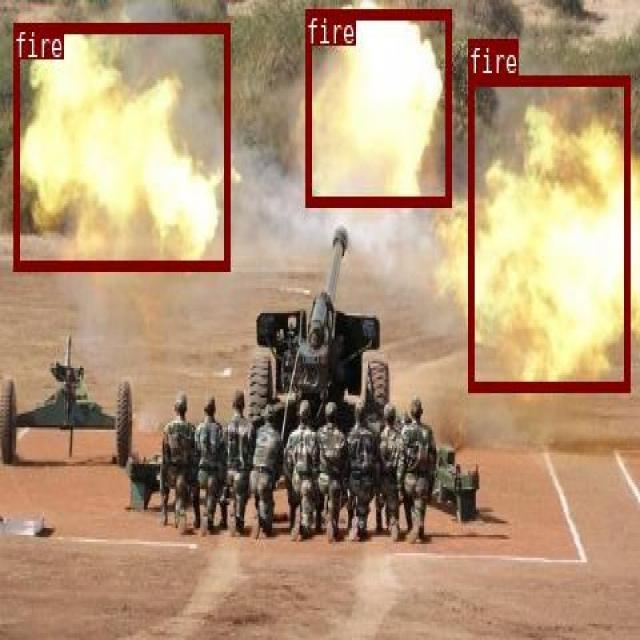fire: (13, 22, 229, 270), (468, 75, 629, 389), (304, 7, 450, 206)
